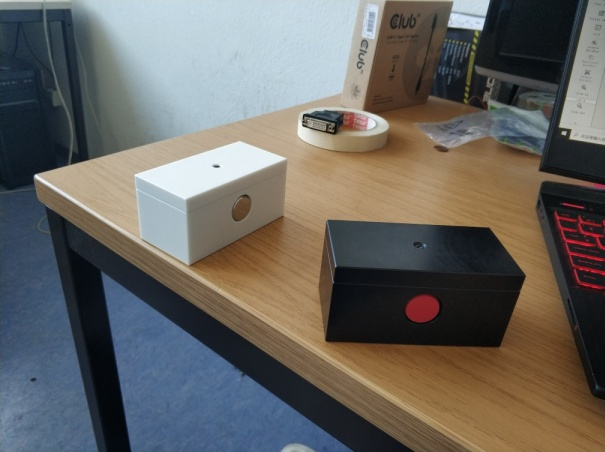black+black+red: (317, 218, 528, 351)
white+white+silver: (134, 139, 290, 268)
